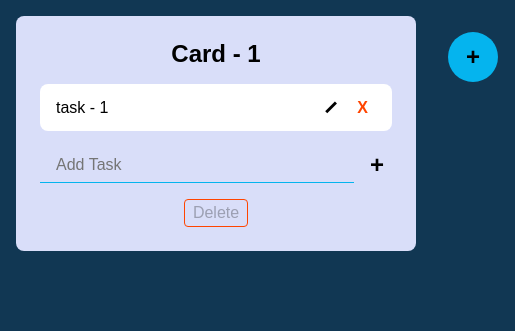
edits a task in a column
This screenshot has width=515, height=331.
Type "foo" into the field with placeholder "Add Task" at (197, 165), box [40, 148, 354, 182]
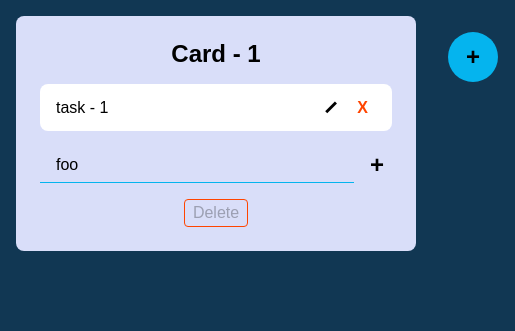
Click the button named "Add Task" at (377, 165), box [362, 147, 392, 183]
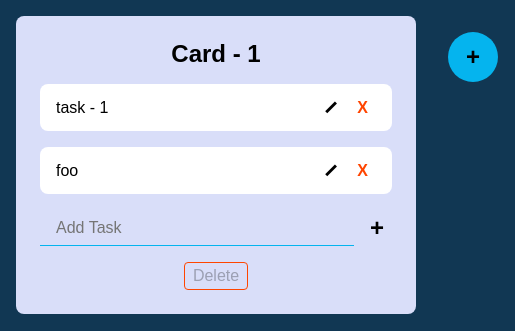
Click the button named "Edit Task" at (331, 170), box [312, 152, 349, 189]
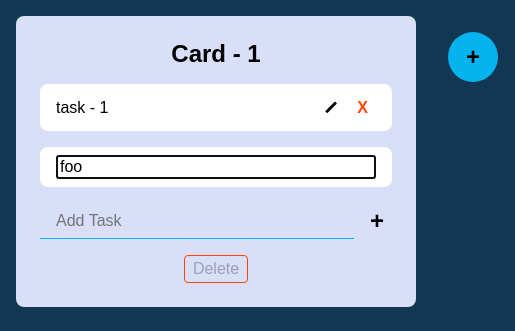
Result: the field showing "foo" is shown
Replace the text in the field showing "foo" with "bla" at (216, 167), box [56, 155, 376, 179]
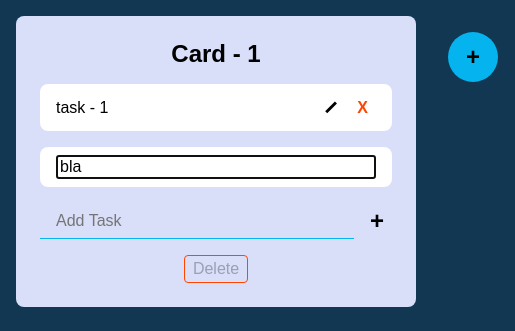
Leave the field showing "foo", box [56, 155, 376, 179]
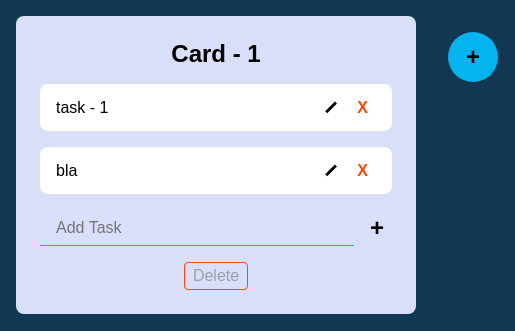
Expected: the text "foo" is not shown
Result: the text "bla" is shown at [56, 162, 77, 178]
